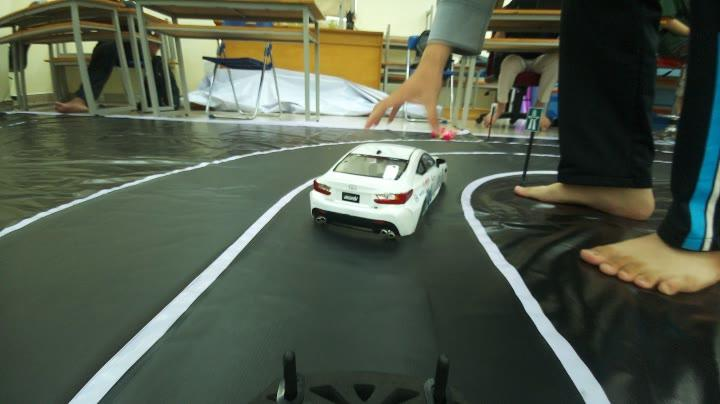car: (311, 137, 430, 264)
highway_entry: (518, 101, 546, 132)
